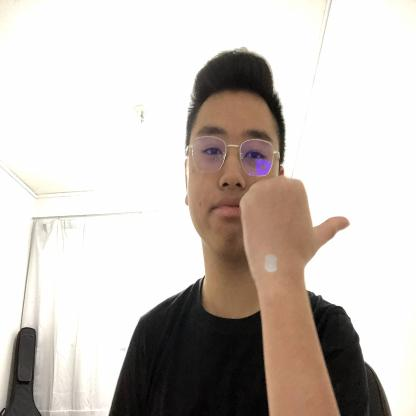left: (240, 173, 350, 281)
